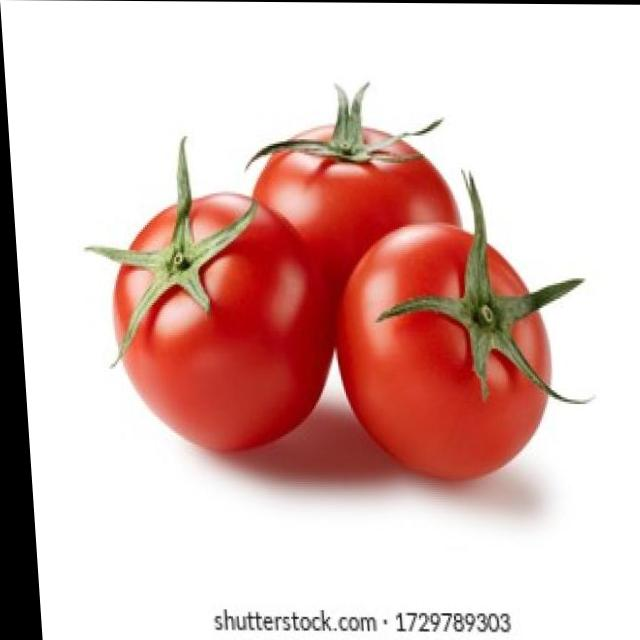kirmizi: (93, 105, 560, 495)
